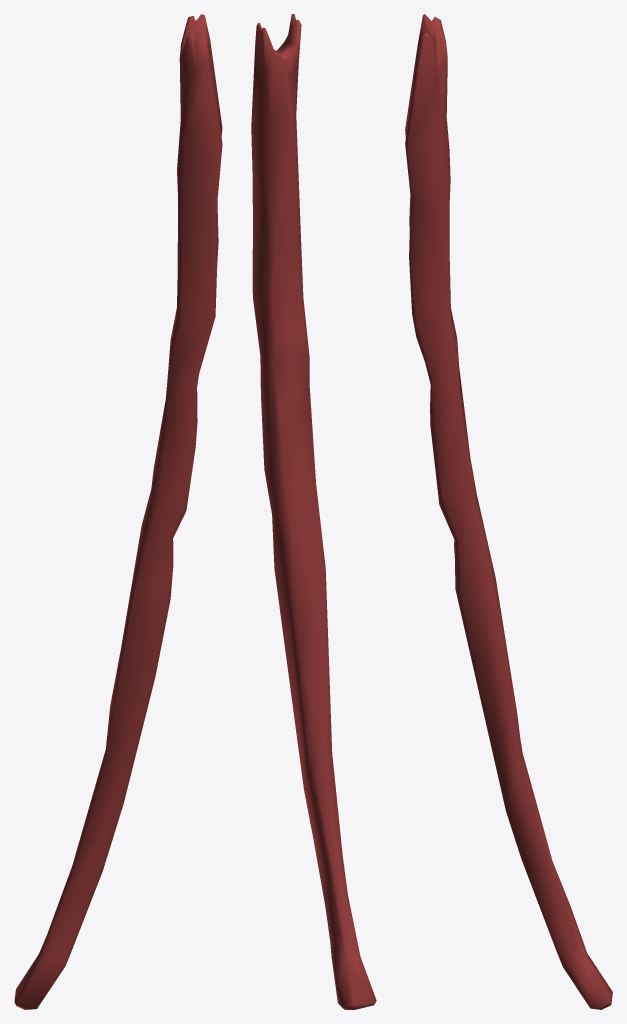
File: linea-alba.glb
3 renders of one model, left to right at view 1: azimuth 90°, elevation 25°; view 2: azimuth 210°, elevation 25°; view 3: azimuth 270°, elevation 25°, orthographic. The views are drawn at different scales.
Visible parts, largest first — view 1: Linea alba; view 2: Linea alba; view 3: Linea alba.
Boxes of the visible parts, left/top/right/bottom form: Linea alba: left=14, top=14, right=222, bottom=1009; Linea alba: left=251, top=14, right=376, bottom=1009; Linea alba: left=405, top=14, right=612, bottom=1009.
Size of the model in its own units: 0.018 by 0.3959 by 0.076.
